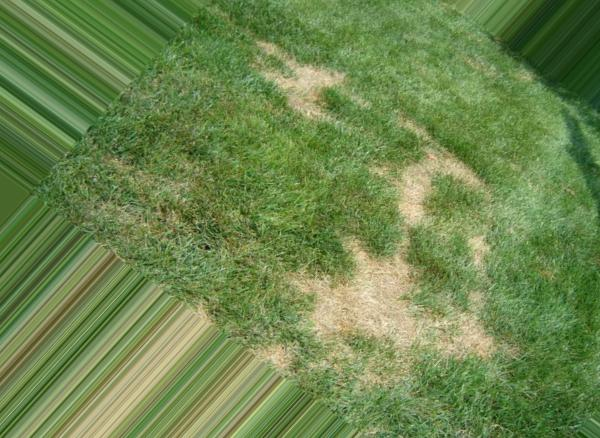patch: (355, 264, 407, 327), (325, 280, 343, 325), (409, 174, 425, 214), (470, 326, 491, 343)
